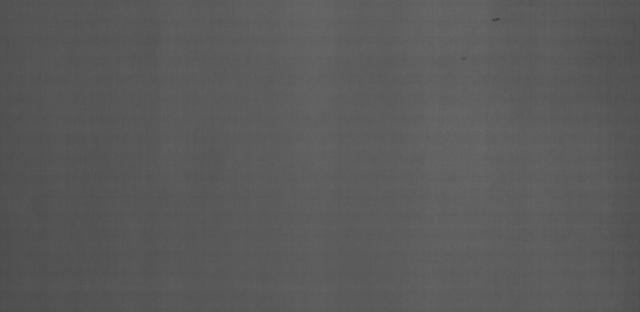inclusion: (445, 47, 477, 63), (482, 6, 508, 24)
